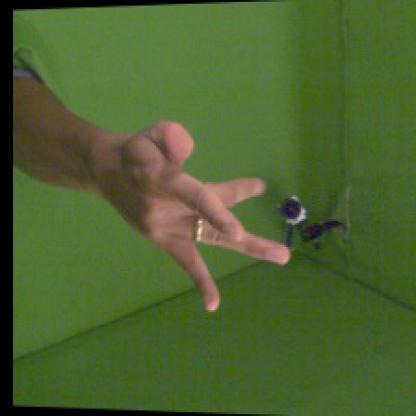Hand: (108, 120, 292, 314)
